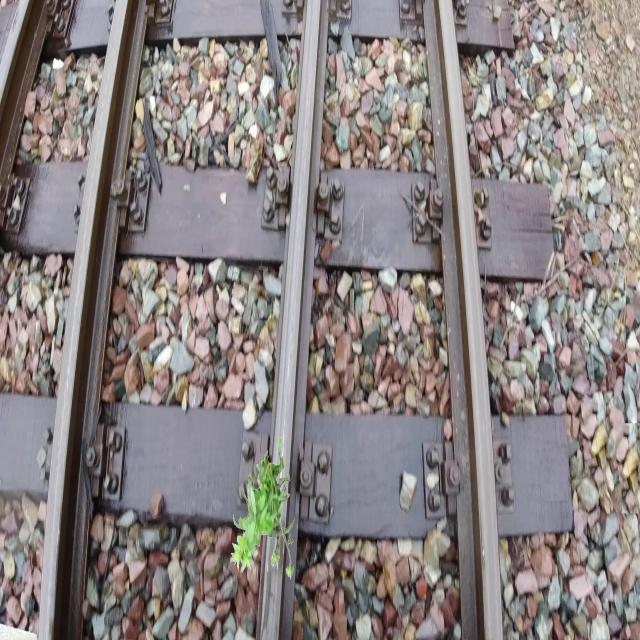Plant: (230, 437, 294, 580)
